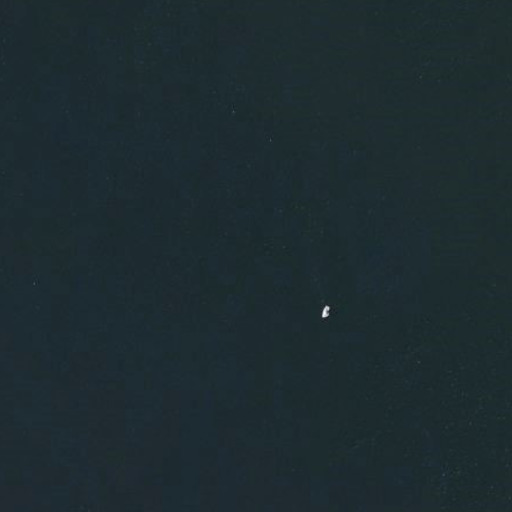ship: (319, 301, 332, 322)
